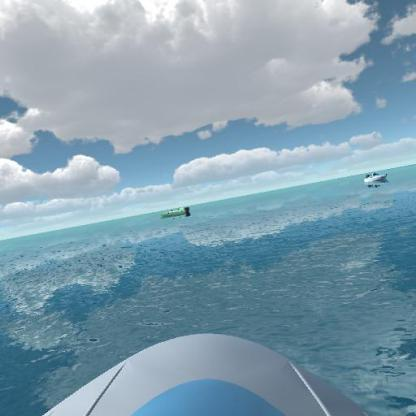usv0: (156, 202, 196, 223)
usv1: (356, 166, 393, 192)
